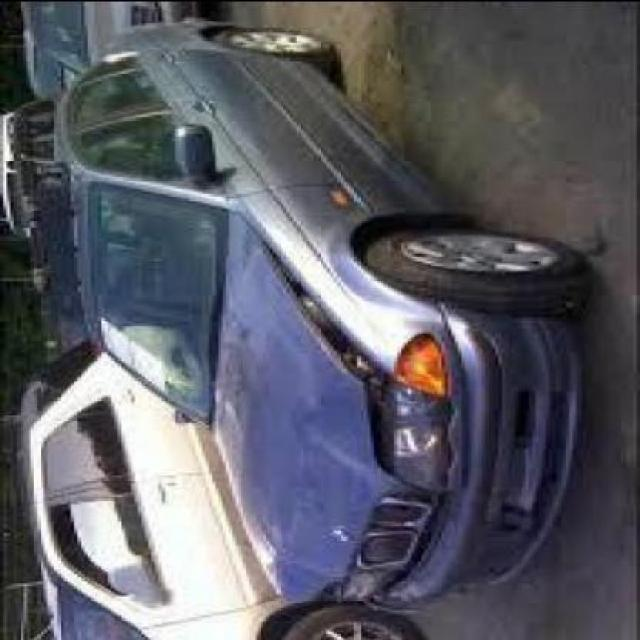damage: (250, 228, 396, 473), (280, 442, 436, 599)
